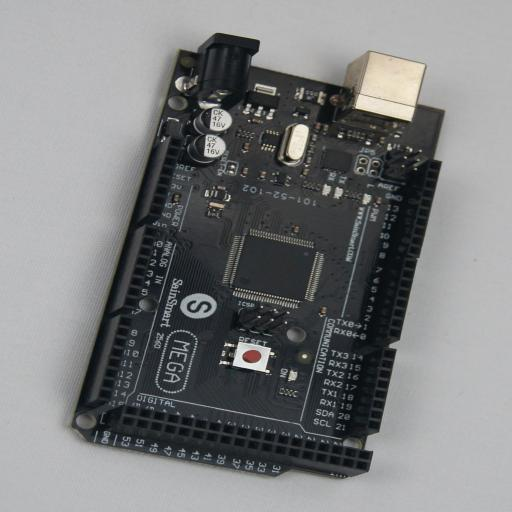Arduino Mega 2560 -Black-: (71, 33, 444, 479)
